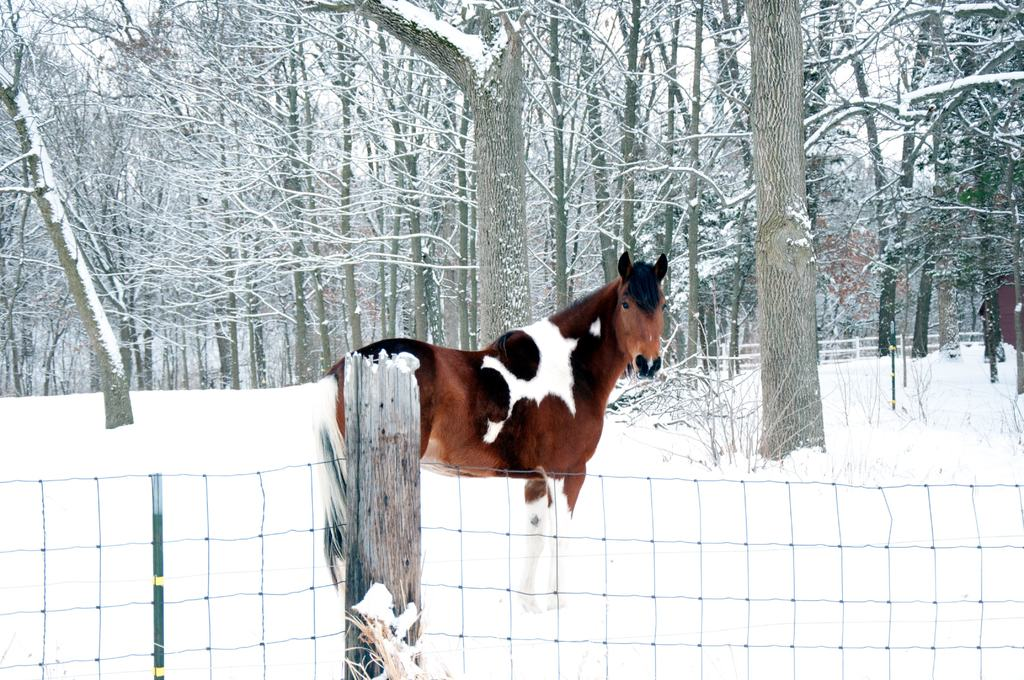Tree: (0, 0, 1023, 461), (675, 0, 1023, 478), (291, 0, 615, 354), (40, 0, 289, 380), (161, 0, 376, 382), (816, 0, 1023, 361), (0, 38, 136, 430)
